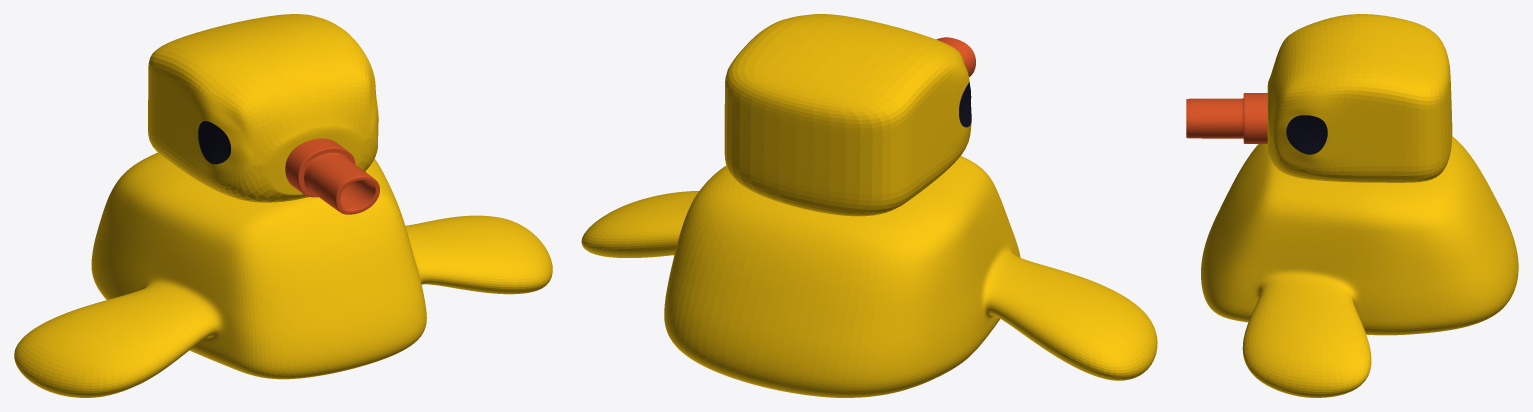
Rendered from Enemy.fbx.
The picture shows the model from 3 angles, left to right: view 1: azimuth 30°, elevation 25°; view 2: azimuth 150°, elevation 25°; view 3: azimuth 270°, elevation 25°; orthographic projection. The views are drawn at different scales.
Parts seen in each view (by area): view 1: Cube, Cube.001, Cube.002, Cube.003; view 2: Cube, Cube.001, Cube.002; view 3: Cube, Cube.001, Cube.002, Cube.003.
Boxes of the visible parts, box(x1,y1,x2,y2) form: Cube: box(14, 152, 552, 397); Cube.001: box(148, 14, 378, 202); Cube.002: box(285, 138, 379, 214); Cube.003: box(198, 121, 230, 164); Cube: box(581, 156, 1157, 397); Cube.001: box(724, 14, 971, 216); Cube.002: box(936, 37, 975, 77); Cube: box(1201, 136, 1518, 397); Cube.001: box(1267, 14, 1452, 182); Cube.002: box(1186, 93, 1267, 143); Cube.003: box(1286, 115, 1327, 154).
Size of the model in its own units: 220 by 115 by 134.
